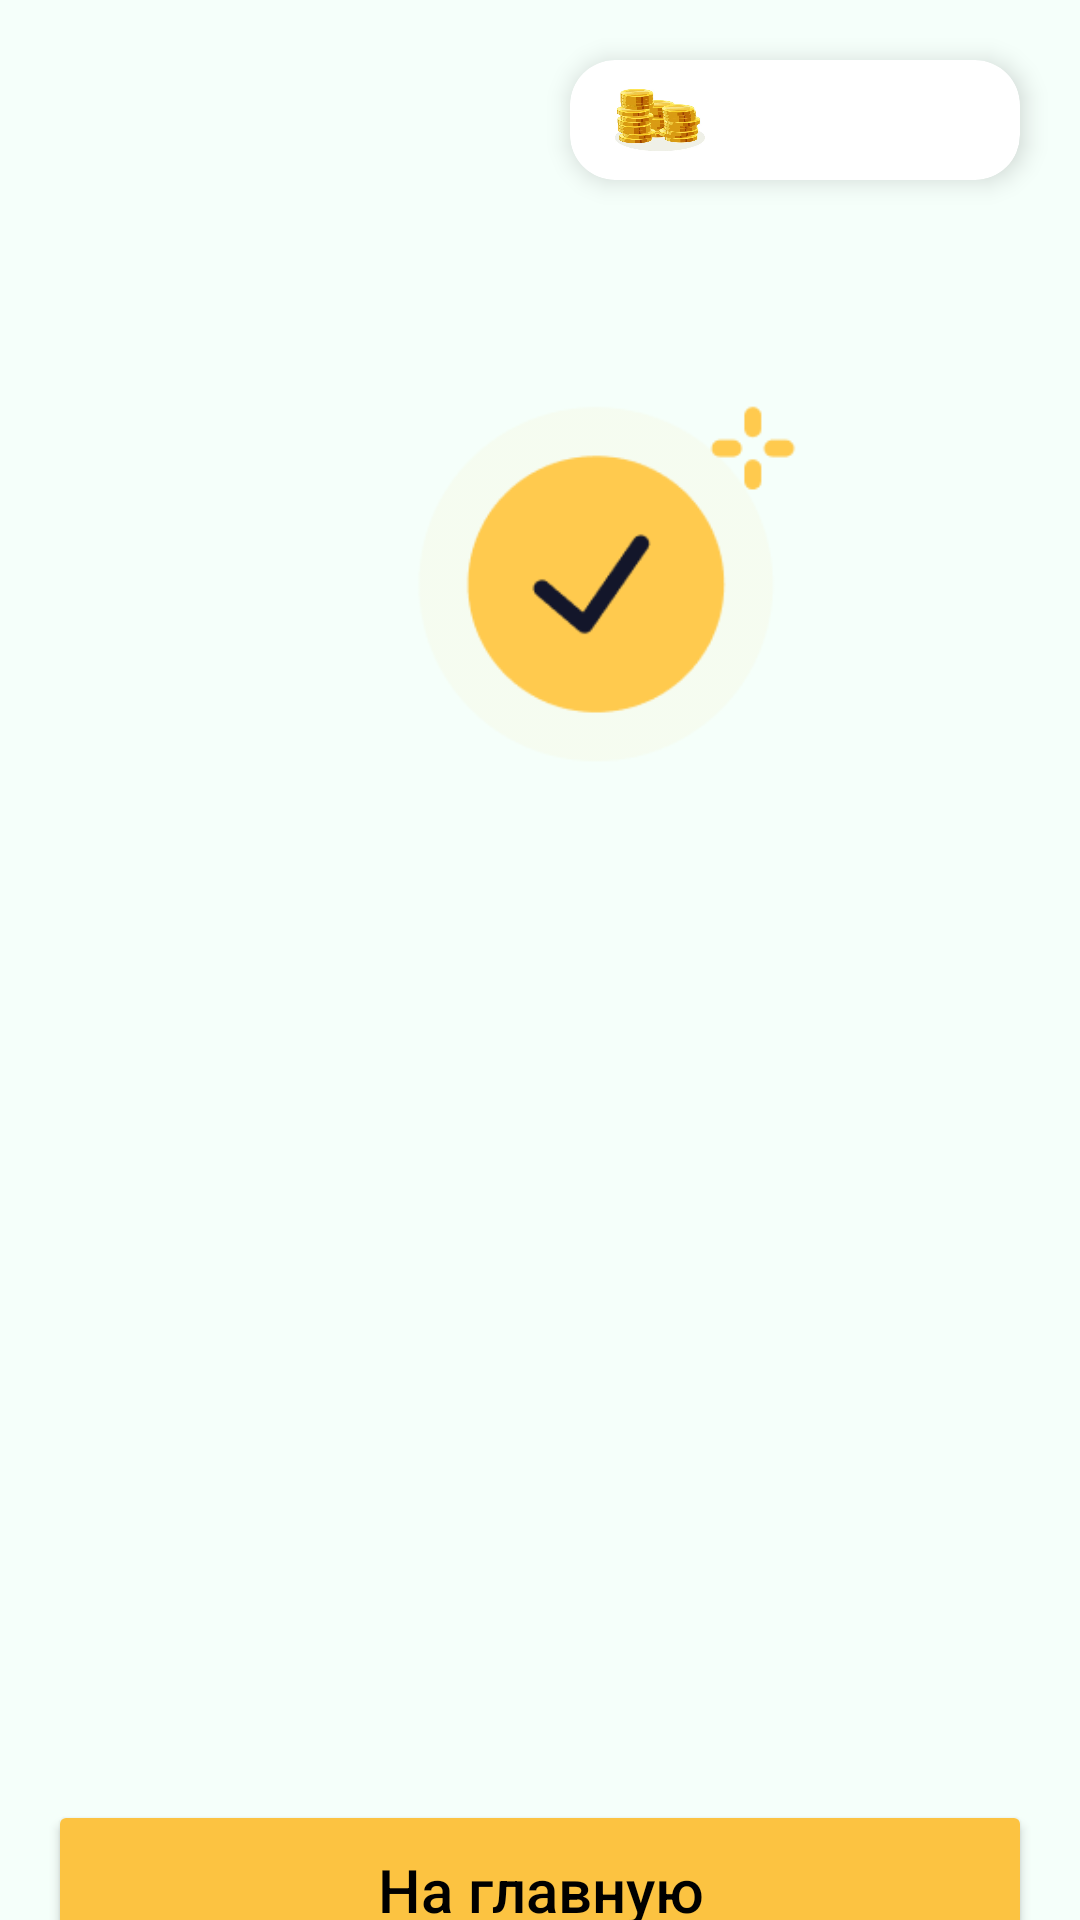

Icon bounding boxes for this 1080x1920 phone screenshot, format (x1,y1,x2,y2):
check mark: (466,406,795,713)
money: (615,89,705,151)
